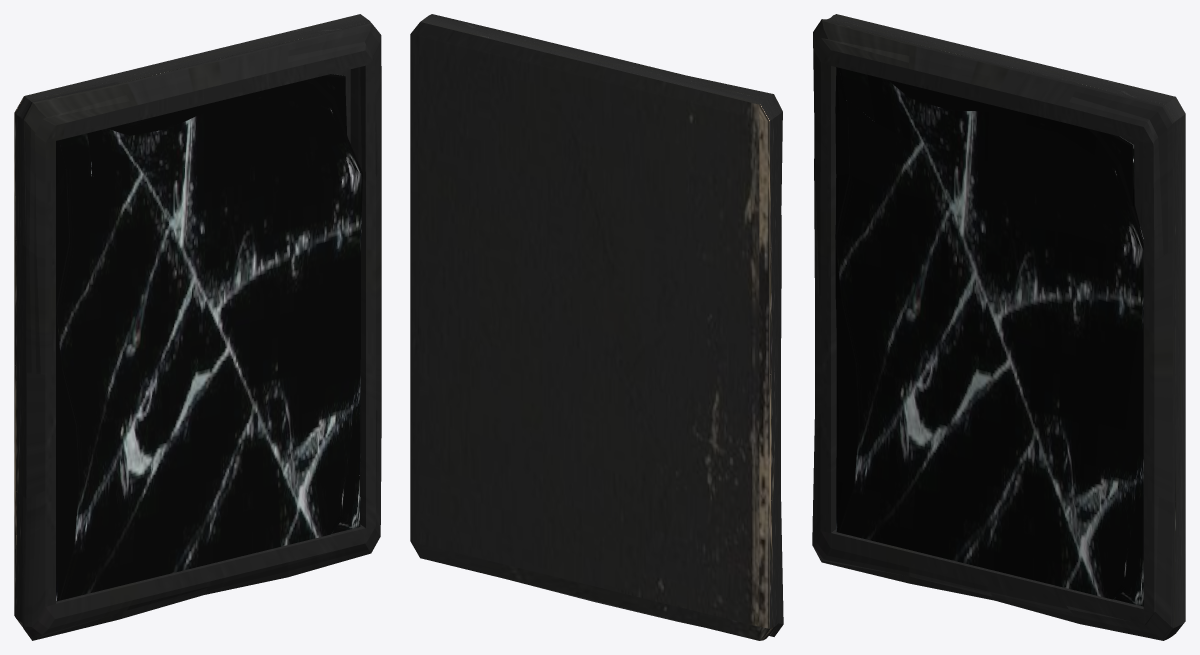
File: PRP_Mirror.fbx
3 renders of one model, left to right at view 1: azimuth 30°, elevation 25°; view 2: azimuth 150°, elevation 25°; view 3: azimuth 330°, elevation 25°, orthographic.
Visible parts, largest first — view 1: Cube.001; view 2: Cube.001; view 3: Cube.001.
Boxes of the visible parts, x1,y1,x2,y2 form: Cube.001: (14, 14, 381, 640); Cube.001: (410, 14, 783, 640); Cube.001: (812, 14, 1185, 640).
Size of the model in its own units: 1.25 by 1.79 by 0.1148.
Materials: 2 (2 with a texture image).
